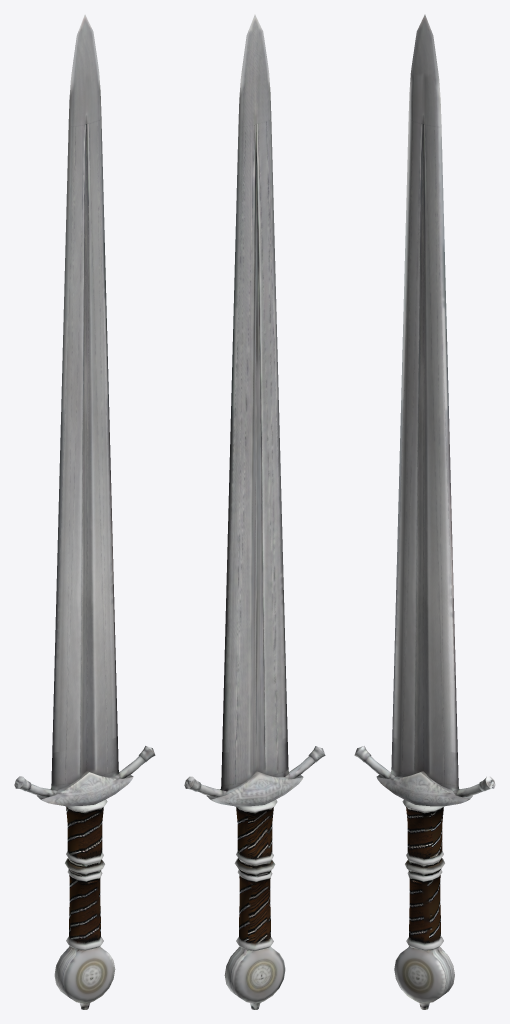
The model's file is w_longsword_t2.glb.
3 renders of one model, left to right at view 1: azimuth 30°, elevation 25°; view 2: azimuth 210°, elevation 25°; view 3: azimuth 330°, elevation 25°, orthographic.
Visible parts, largest first — view 1: Longsword:0; view 2: Longsword:0; view 3: Longsword:0.
Part boxes in pixels (x1,y1,x2,y2): Longsword:0: (14,14,155,1009); Longsword:0: (184,14,325,1009); Longsword:0: (354,14,495,1009).
Size of the model in its own units: 11.52 by 79.15 by 3.19.
Materials: 1 (1 with a texture image).
